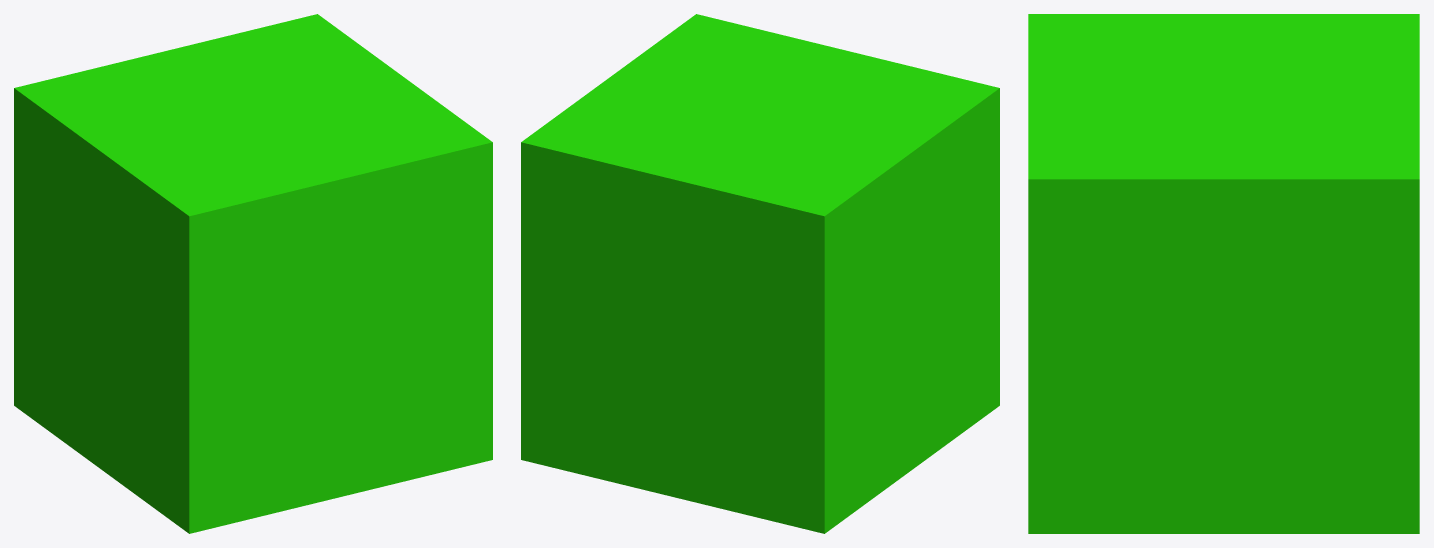
Rendered from nestingBoxes.gltf.
3 renders of one model, left to right at view 1: azimuth 30°, elevation 25°; view 2: azimuth 150°, elevation 25°; view 3: azimuth 270°, elevation 25°, orthographic. The views are drawn at different scales.
Parts seen in each view (by area): view 1: Big; view 2: Big; view 3: Big.
Boxes of the visible parts, left/top/right/bottom form: Big: left=14, top=14, right=492, bottom=533; Big: left=521, top=14, right=999, bottom=533; Big: left=1028, top=14, right=1419, bottom=533.
Size of the model in its own units: 2 by 2 by 2.
